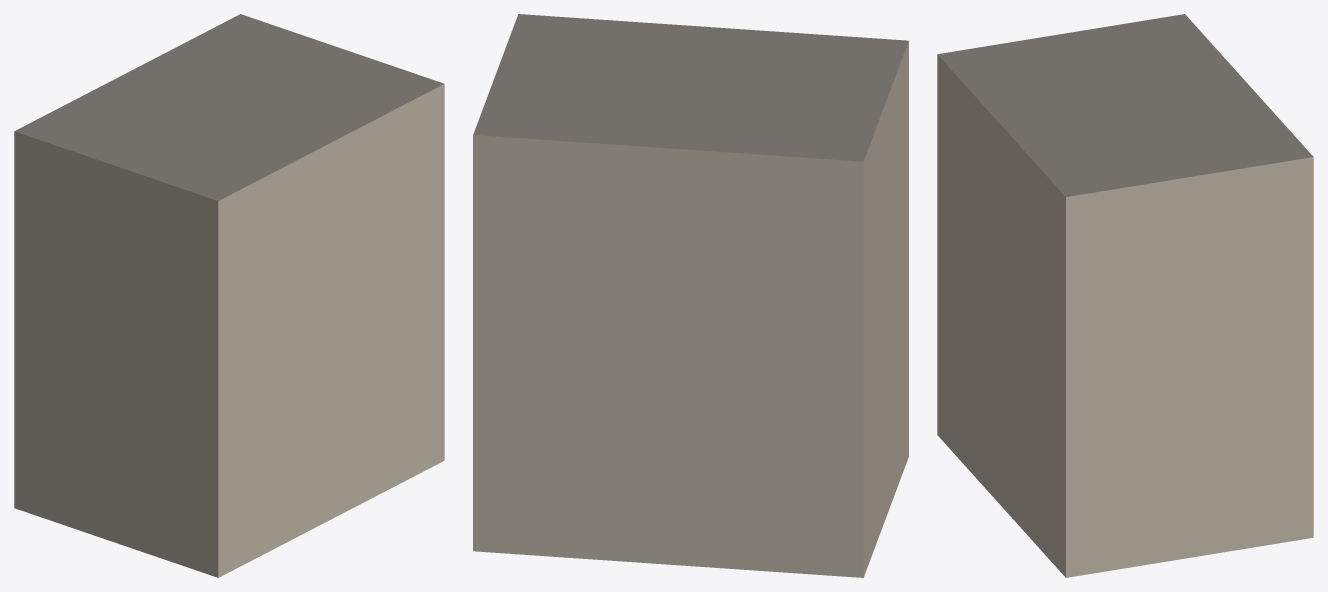
3 renders of one model, left to right at view 1: azimuth 30°, elevation 25°; view 2: azimuth 150°, elevation 25°; view 3: azimuth 270°, elevation 25°, orthographic. The views are drawn at different scales.
Parts seen in each view (by area): view 1: HP-w505650485; view 2: HP-w505650485; view 3: HP-w505650485.
Boxes of the visible parts, bbox=[...] form: HP-w505650485: bbox=[14, 14, 444, 577]; HP-w505650485: bbox=[473, 14, 908, 577]; HP-w505650485: bbox=[937, 14, 1313, 577].
Size of the model in its own units: 18.57 by 18 by 16.12.
